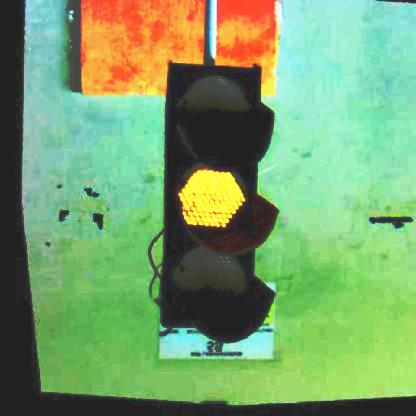Traffic Light -Yellow-: (131, 56, 302, 351)
